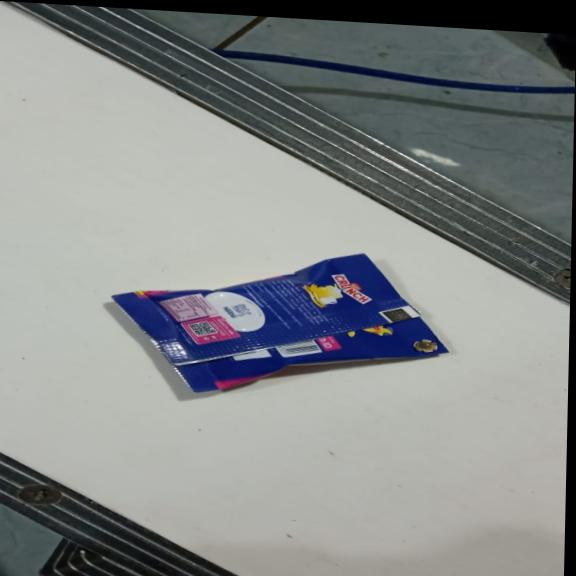Plastik: (107, 237, 455, 409)
